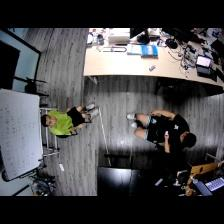normal: (125, 108, 198, 152), (41, 100, 99, 137)
